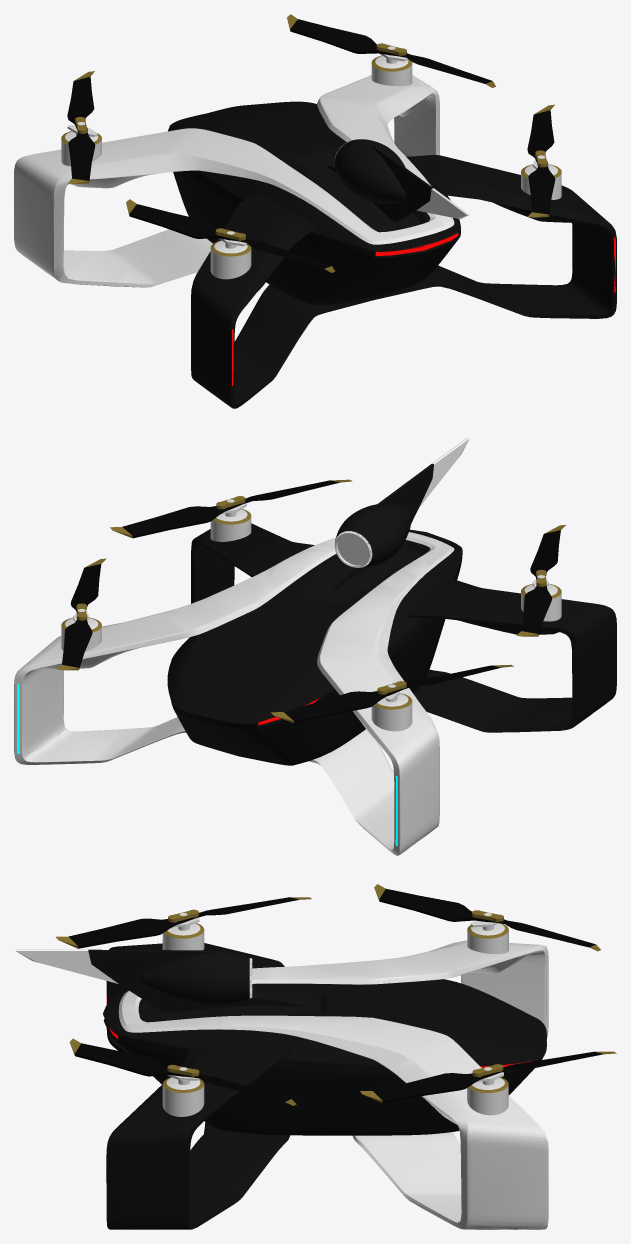
Rendered from drone.glb.
The picture shows the model from 3 angles, top to bottom: view 1: azimuth 30°, elevation 25°; view 2: azimuth 150°, elevation 25°; view 3: azimuth 270°, elevation 25°; orthographic projection.
Parts seen in each view (by area): view 1: body, legs, cam, motors, wing3, wing1, tail, wing4, wing2, red; view 2: body, legs, cam, motors, wing4, wing2, tail, wing1, wing3, lens; view 3: body, legs, cam, motors, tail, wing3, wing1, wing4, wing2.
Boxes of the visible parts, x1,y1,x2,y2 form: body: [168, 101, 616, 408]; legs: [14, 75, 454, 287]; cam: [304, 139, 423, 231]; motors: [61, 46, 561, 279]; wing3: [126, 199, 335, 272]; wing1: [287, 14, 495, 87]; tail: [326, 146, 469, 222]; wing4: [527, 104, 555, 217]; wing2: [67, 71, 95, 184]; red: [232, 233, 615, 385]; body: [167, 523, 616, 765]; legs: [14, 532, 454, 855]; cam: [306, 504, 421, 604]; motors: [61, 499, 561, 731]; wing4: [110, 479, 352, 538]; wing2: [271, 664, 513, 723]; tail: [326, 437, 469, 595]; wing1: [56, 558, 106, 670]; wing3: [516, 525, 565, 636]; lens: [334, 531, 372, 567]; body: [103, 943, 546, 1229]; legs: [118, 940, 548, 1229]; cam: [140, 949, 320, 1021]; motors: [162, 912, 508, 1116]; tail: [14, 949, 303, 1013]; wing3: [56, 897, 311, 948]; wing1: [360, 1051, 616, 1103]; wing4: [69, 1038, 296, 1105]; wing2: [374, 884, 600, 951].
Bounding box in the file's own units: 1.38 × 0.5446 × 1.59.
